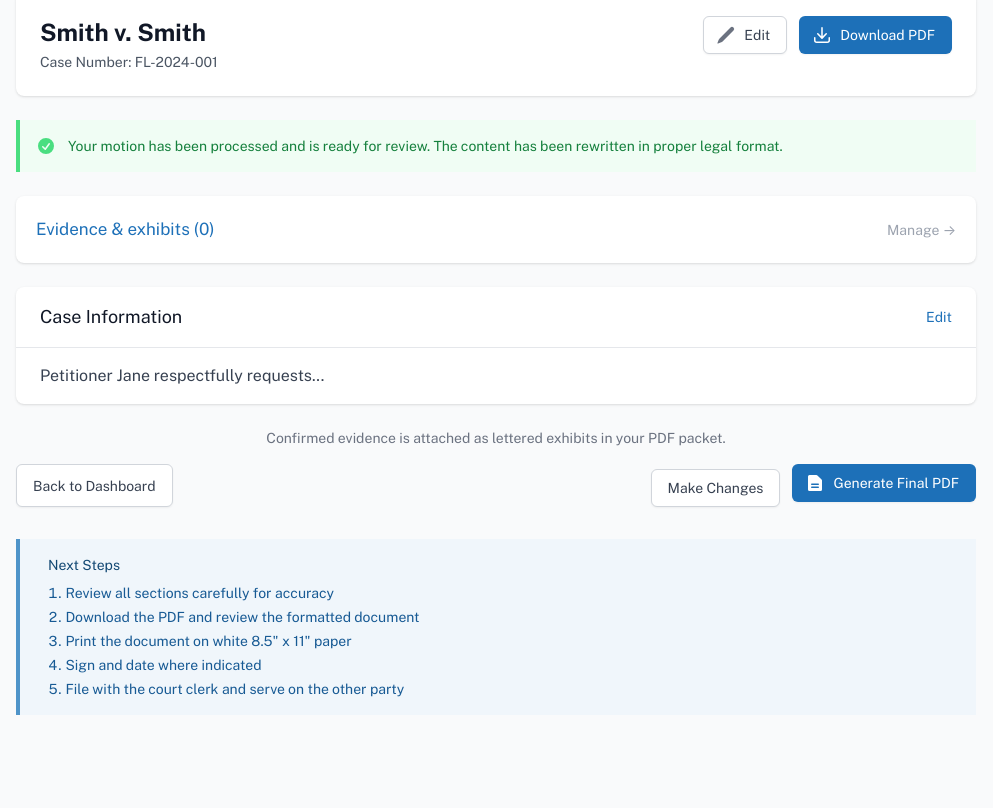
Test: MotionPreview › shows error state with retry button and saved-draft message on PDF failure
The image size is (993, 808).
Expected: the heading "Smith v. Smith" is shown, x1=40 y1=16 x2=218 y2=48
Click the button "Download PDF" at (876, 35), box x1=799 y1=16 x2=952 y2=54
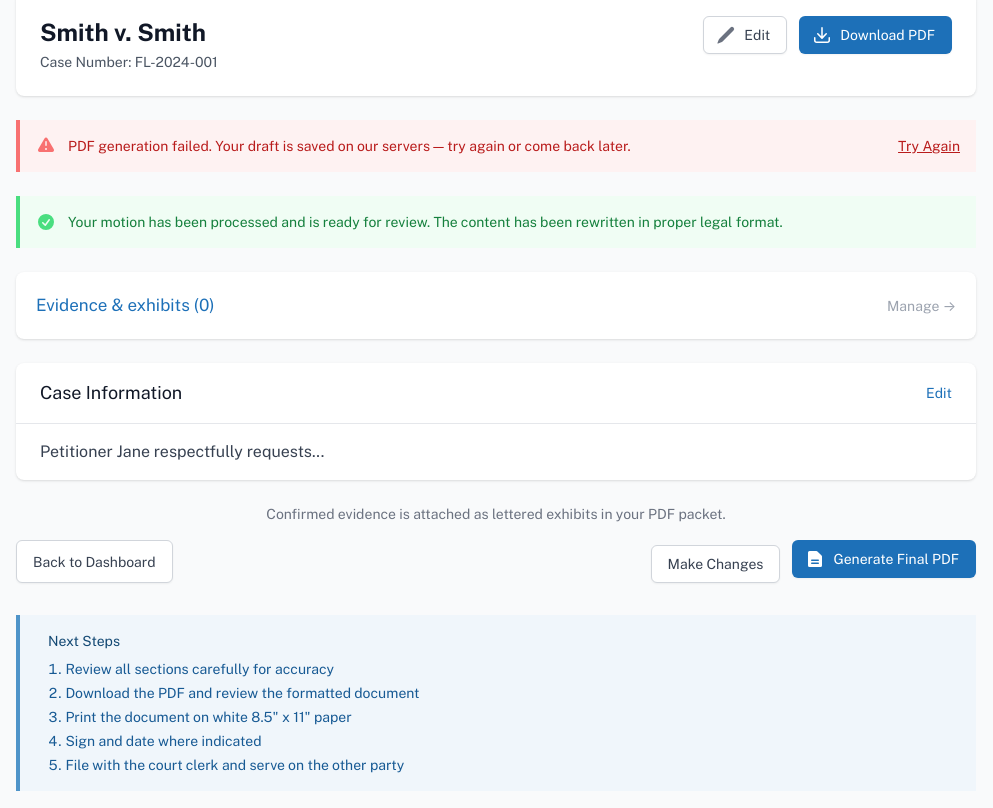
Result: the button "Try Again" is shown at x1=898 y1=136 x2=960 y2=156
